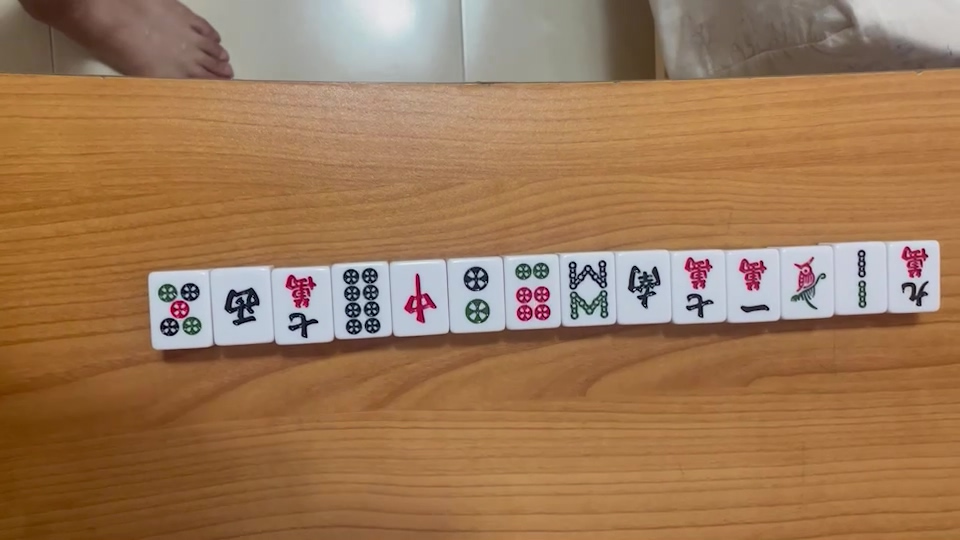b-1: (789, 253, 831, 313)
b-2: (848, 247, 881, 310)
b-8: (564, 258, 610, 322)
c-1: (731, 254, 771, 314)
c-7: (278, 270, 325, 343), (680, 253, 717, 317)
c-9: (897, 243, 931, 310)
d-2: (459, 265, 493, 327)
d-5: (156, 279, 205, 341)
d-6: (508, 261, 554, 323)
d-8: (340, 264, 381, 336)
honors-red: (398, 272, 438, 330)
honors-south: (621, 261, 664, 308)
honors-west: (220, 282, 263, 329)
